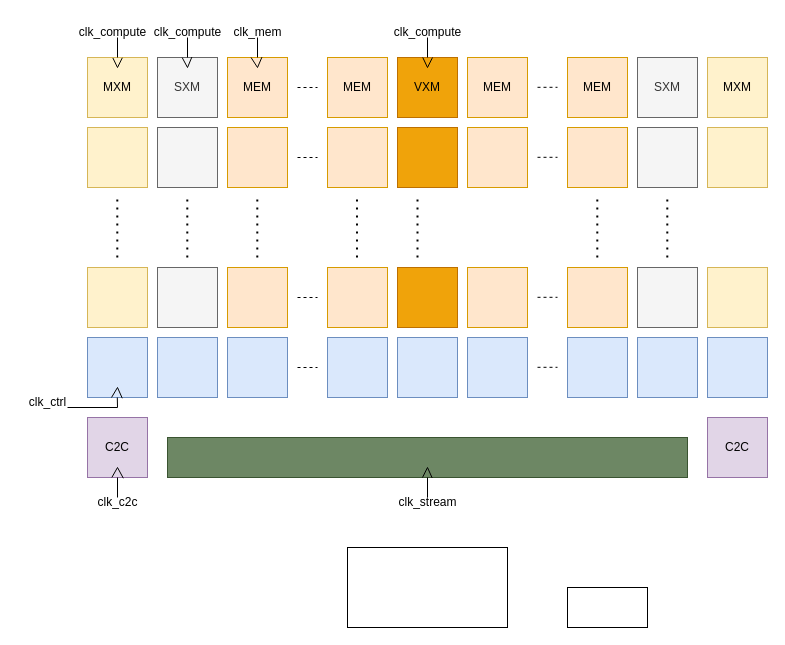
Some shapes in this 785 by 645 pixel diagram are drawn without their labels. The shapes that lost their labels are listed below. From the top down, each one's centre as x and y in pixels, then its label:
At (x=117, y=367): "ICU".
At (x=427, y=457): "Streaming Register File (SR)".
At (x=427, y=587): "Processing Subsystem (RISC)".
At (x=607, y=607): "DDR".
